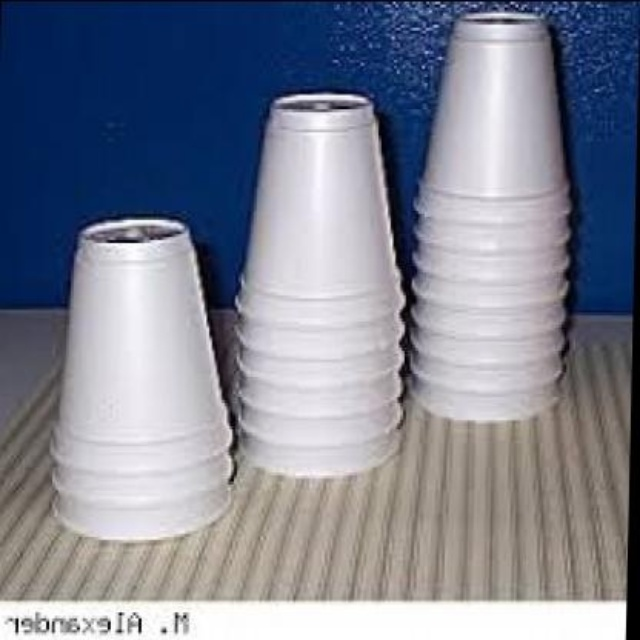trash: (411, 14, 569, 420), (238, 94, 402, 474), (51, 218, 231, 538)
